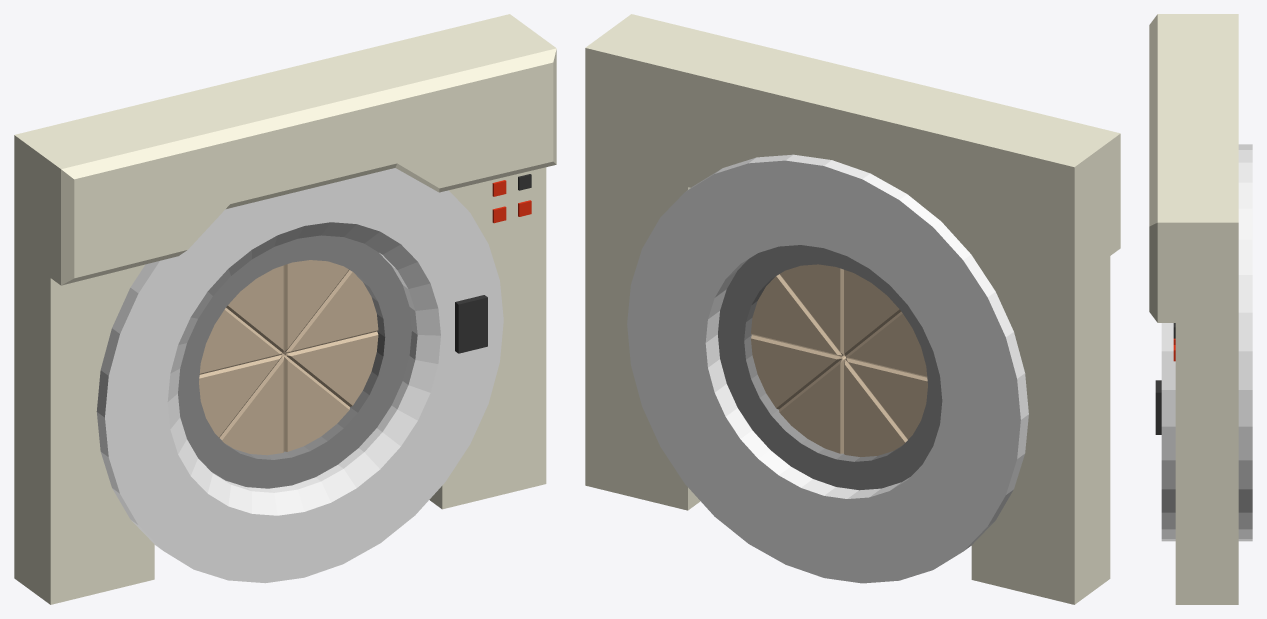
The model's file is door.fbx.
3 renders of one model, left to right at view 1: azimuth 30°, elevation 25°; view 2: azimuth 150°, elevation 25°; view 3: azimuth 270°, elevation 25°, orthographic. The views are drawn at different scales.
Parts seen in each view (by area): view 1: DoorFrame, Aperture7, Aperture6, Aperture5, Aperture8, Aperture1, Aperture4, Aperture2, Aperture3; view 2: DoorFrame, Aperture7, Aperture6, Aperture8, Aperture5, Aperture1, Aperture4, Aperture3, Aperture2; view 3: DoorFrame.
Part boxes in pixels (left/top/right/bottom): DoorFrame: left=14, top=14, right=556, bottom=604; Aperture7: left=283, top=331, right=378, bottom=406; Aperture6: left=282, top=353, right=349, bottom=451; Aperture5: left=219, top=355, right=284, bottom=455; Aperture8: left=284, top=270, right=378, bottom=353; Aperture1: left=284, top=260, right=348, bottom=351; Aperture4: left=199, top=355, right=282, bottom=437; Aperture2: left=226, top=265, right=284, bottom=352; Aperture3: left=199, top=308, right=282, bottom=374; DoorFrame: left=585, top=14, right=1120, bottom=604; Aperture7: left=751, top=335, right=845, bottom=409; Aperture6: left=779, top=356, right=845, bottom=453; Aperture8: left=751, top=274, right=843, bottom=356; Aperture5: left=844, top=358, right=907, bottom=456; Aperture1: left=779, top=264, right=843, bottom=355; Aperture4: left=845, top=358, right=927, bottom=439; Aperture3: left=845, top=311, right=927, bottom=377; Aperture2: left=844, top=270, right=901, bottom=355; DoorFrame: left=1149, top=14, right=1252, bottom=604.
Size of the model in its own units: 474 by 429 by 98.99.
